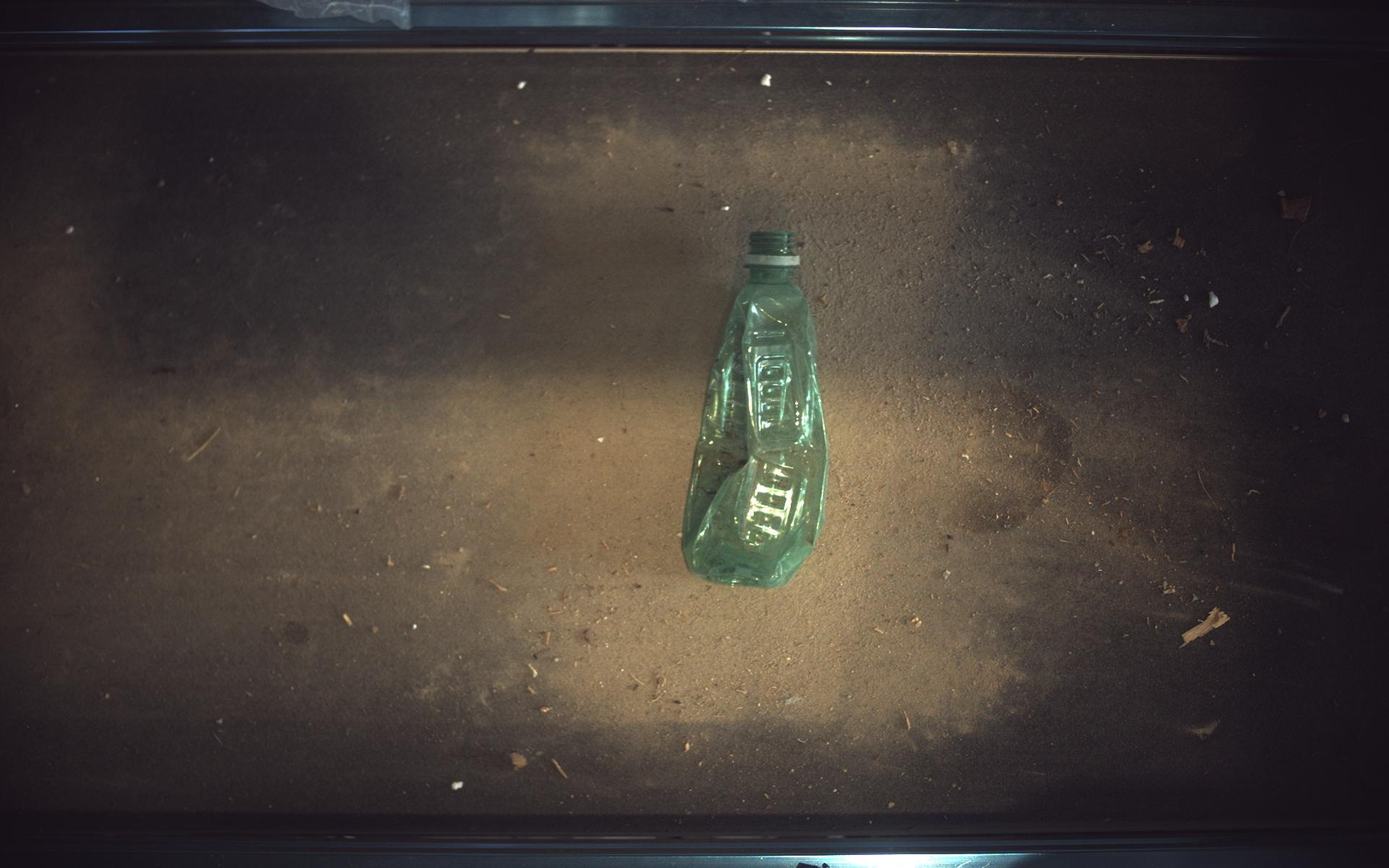general_w: (683, 230, 830, 588)
